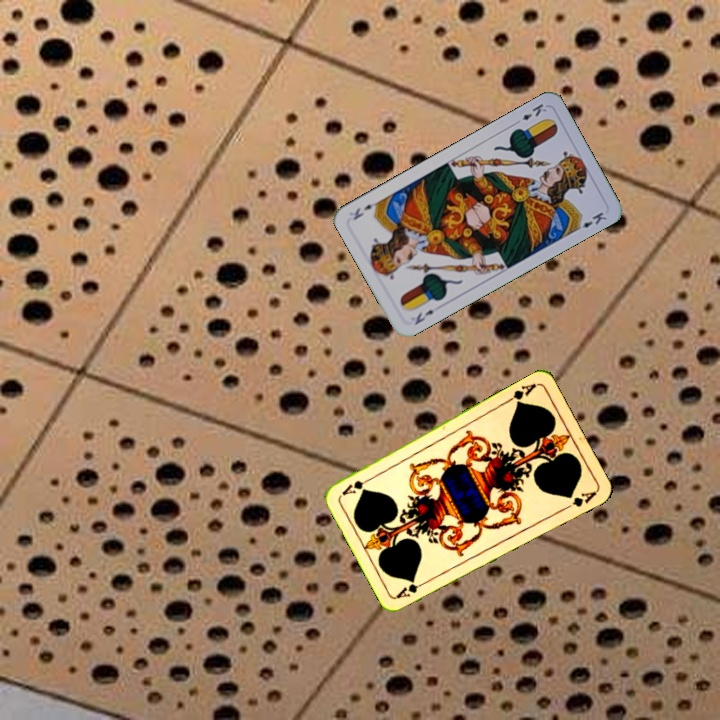EK: (510, 100, 549, 127), (410, 306, 437, 328)
GA: (502, 379, 539, 408), (393, 576, 431, 601)
